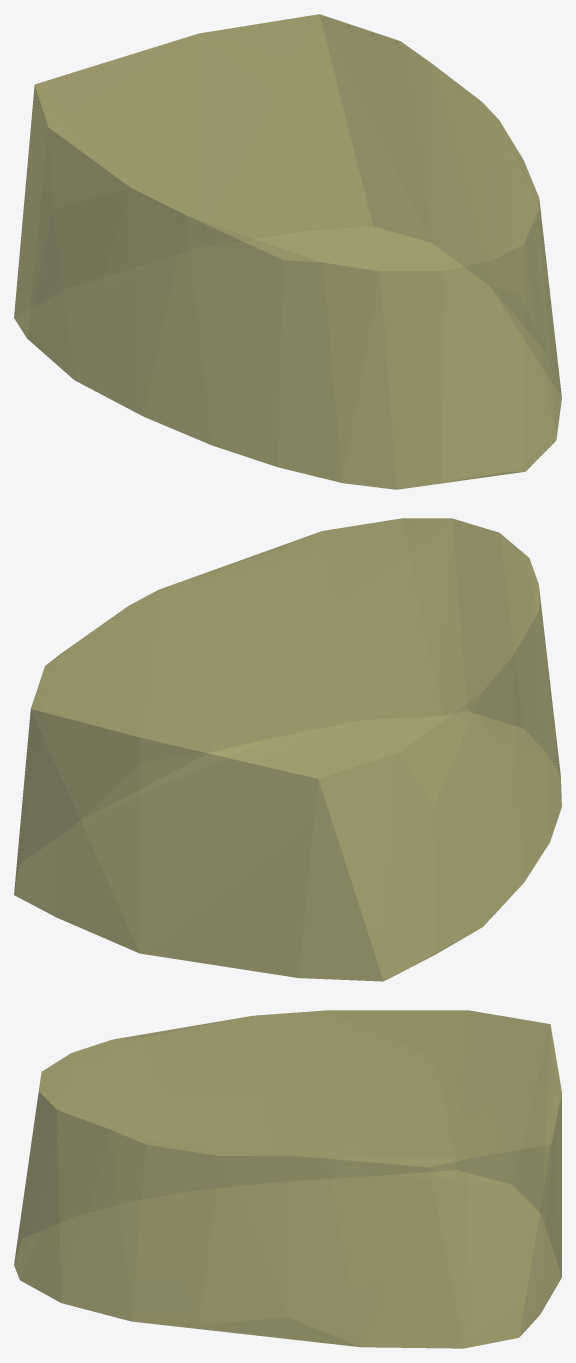
3 views of the same model, one above another, from view 1: azimuth 30°, elevation 25°; view 2: azimuth 150°, elevation 25°; view 3: azimuth 270°, elevation 25° (orthographic). The views are drawn at different scales.
Parts seen in each view (by area): view 1: Shape_IndexedFaceSet.006_Shape_IndexedFaceSet.7492; view 2: Shape_IndexedFaceSet.006_Shape_IndexedFaceSet.7492; view 3: Shape_IndexedFaceSet.006_Shape_IndexedFaceSet.7492.
Part boxes in pixels (x1,y1,x2,y2): Shape_IndexedFaceSet.006_Shape_IndexedFaceSet.7492: (14,14,561,489); Shape_IndexedFaceSet.006_Shape_IndexedFaceSet.7492: (14,518,561,981); Shape_IndexedFaceSet.006_Shape_IndexedFaceSet.7492: (14,1010,561,1348).
Size of the model in its own units: 0.4272 by 0.2141 by 0.574.
